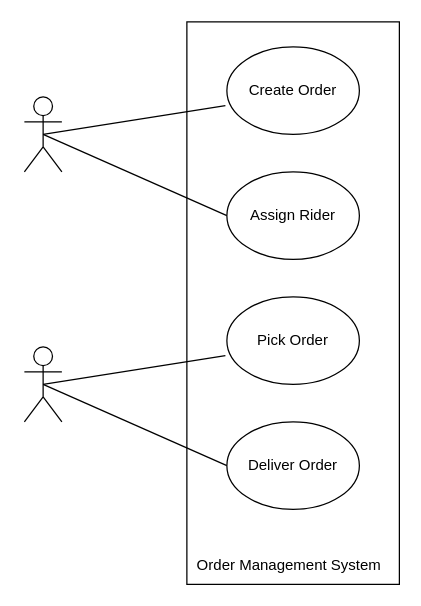
Some shapes in this 421 by 606 pixel diagram are drawn without their labels. Here are the shapes that lost their labels. From the top down, the centre of each, then its label:
(42,134): Admin
(42,384): Rider
